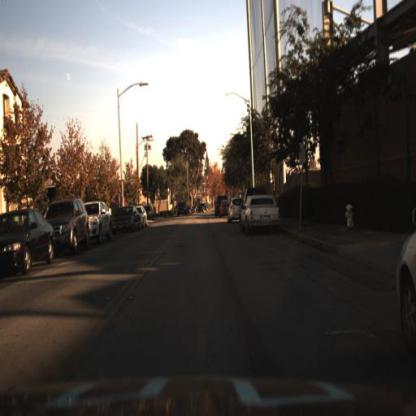car: (1, 210, 56, 281), (48, 196, 90, 264), (240, 193, 289, 240), (86, 195, 116, 249), (112, 203, 141, 239), (111, 207, 142, 237), (226, 192, 243, 228), (135, 199, 151, 235), (176, 199, 190, 220)
